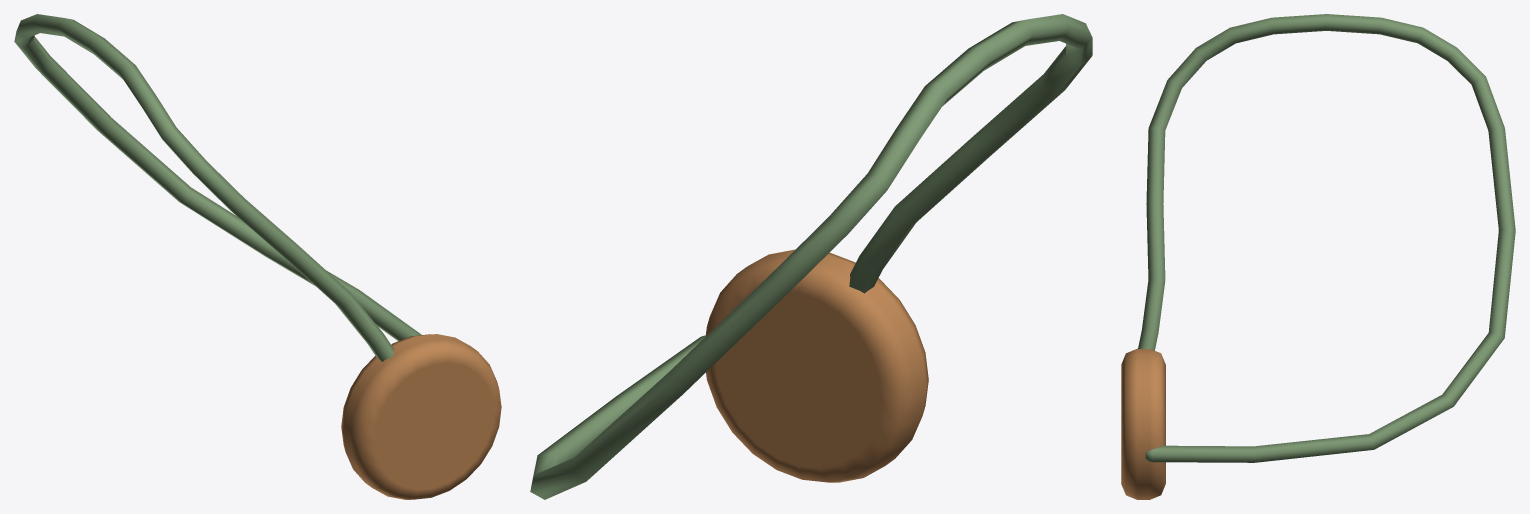
The model's file is acorn_pochette.glb.
3 views of the same model, side by side, from view 1: azimuth 30°, elevation 25°; view 2: azimuth 150°, elevation 25°; view 3: azimuth 270°, elevation 25° (orthographic). The views are drawn at different scales.
Parts seen in each view (by area): view 1: acorn_pochette_Body; view 2: acorn_pochette_Body; view 3: acorn_pochette_Body.
Boxes of the visible parts, x1,y1,x2,y2 form: acorn_pochette_Body: (14,14,501,499); acorn_pochette_Body: (530,14,1092,499); acorn_pochette_Body: (1121,14,1515,499).
Bounding box in the file's own units: 0.3533 × 0.4741 × 0.4416.
